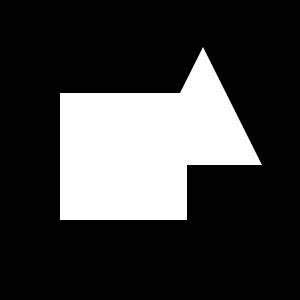circle: (60, 93, 187, 220)
triangle: (144, 47, 262, 165)
